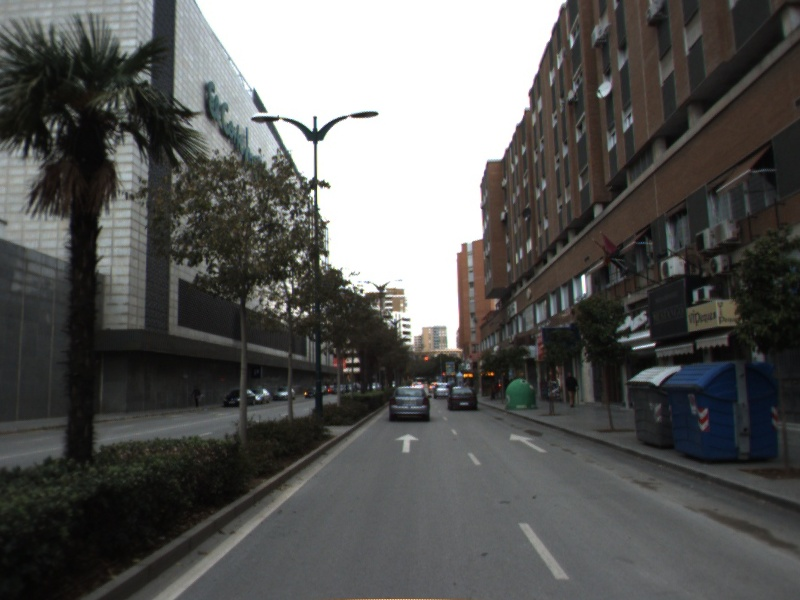STRAIGHT: (508, 431, 550, 454), (393, 432, 422, 454)
